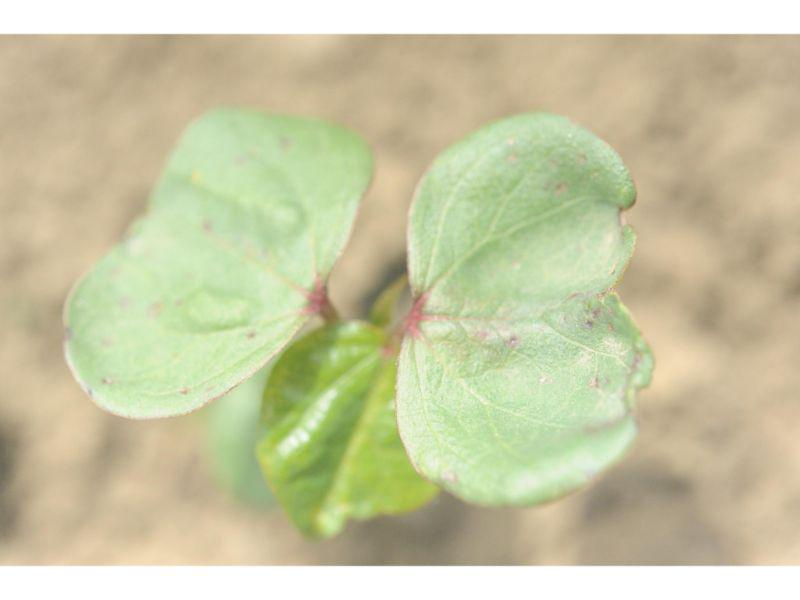cotton: (60, 108, 655, 543)
